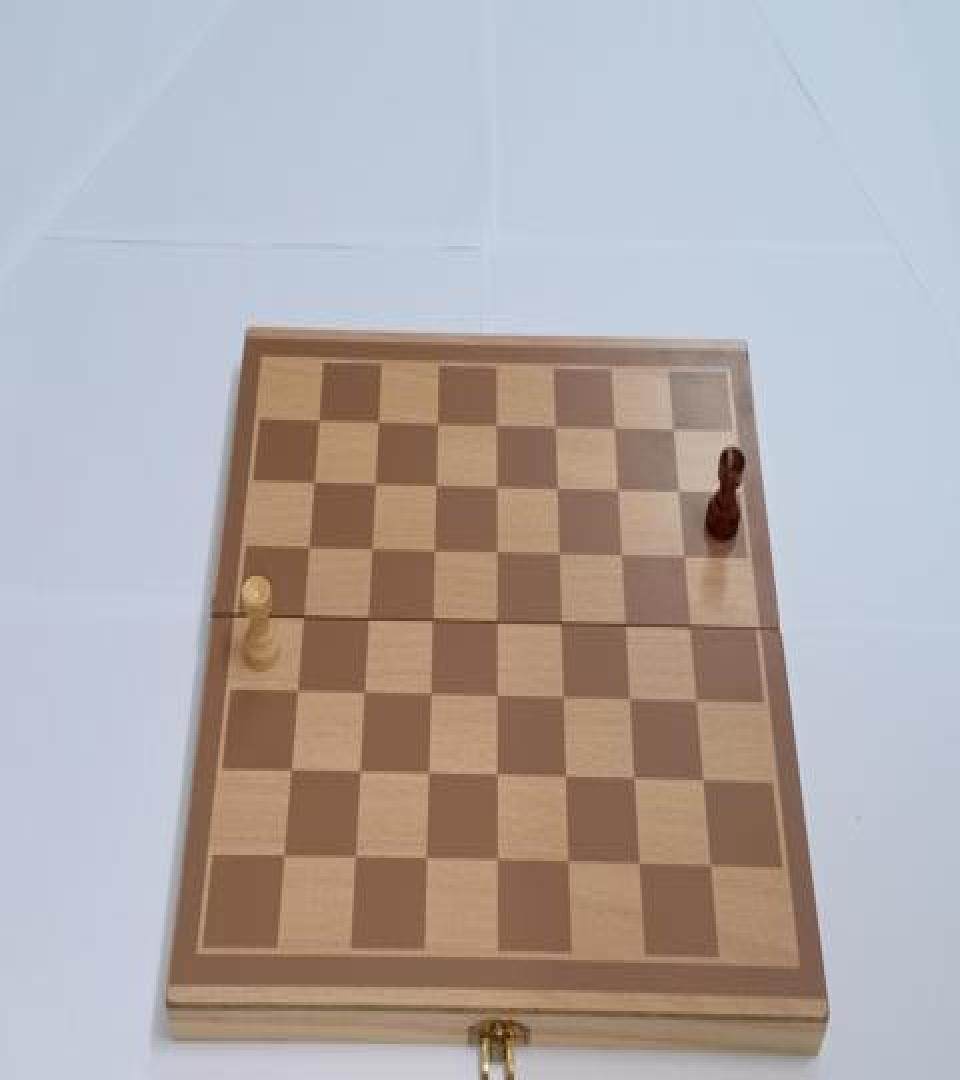xcorner: (305, 472, 323, 500), (283, 760, 301, 788), (429, 412, 447, 440), (549, 478, 567, 506), (610, 478, 628, 506), (666, 418, 684, 446), (300, 538, 318, 565), (295, 609, 313, 636), (289, 683, 307, 710), (277, 844, 295, 871), (370, 411, 388, 438), (366, 474, 384, 501), (363, 540, 381, 567), (360, 609, 378, 636), (356, 684, 374, 711), (352, 762, 370, 789), (348, 846, 366, 873), (424, 610, 442, 637), (488, 414, 506, 441), (488, 477, 506, 504), (489, 543, 507, 570), (489, 612, 507, 639), (489, 687, 507, 714), (489, 765, 507, 792), (489, 849, 507, 876), (547, 415, 565, 442), (551, 543, 569, 570), (555, 687, 573, 714), (558, 766, 576, 793), (560, 851, 578, 878), (607, 417, 625, 444), (614, 545, 632, 572), (618, 615, 636, 642), (622, 689, 640, 716), (626, 768, 644, 795), (631, 852, 649, 879), (671, 480, 689, 507), (676, 546, 694, 573), (682, 617, 700, 644), (688, 690, 706, 717), (310, 410, 328, 436), (427, 476, 445, 502), (426, 542, 444, 568), (422, 686, 440, 712), (421, 764, 439, 790), (419, 848, 437, 874), (553, 614, 571, 640), (695, 770, 713, 796), (702, 854, 720, 880)
